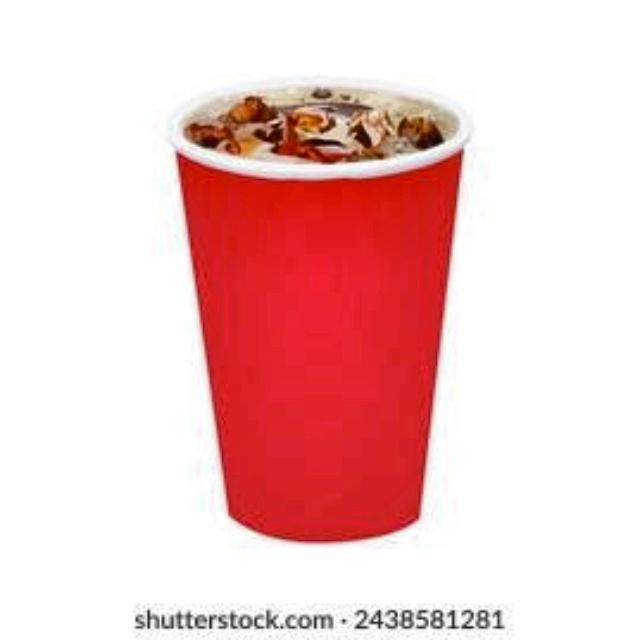paper_cup: (170, 82, 472, 546)
